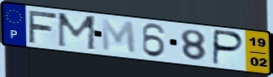6: (140, 22, 167, 59)
8: (178, 29, 210, 62)
F: (26, 9, 59, 44)
M: (56, 11, 99, 53), (99, 17, 138, 56)
P: (211, 28, 247, 67)
